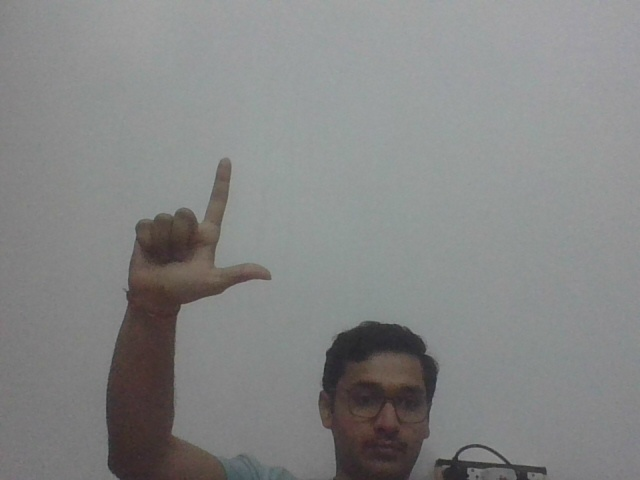L: (125, 155, 279, 306)
